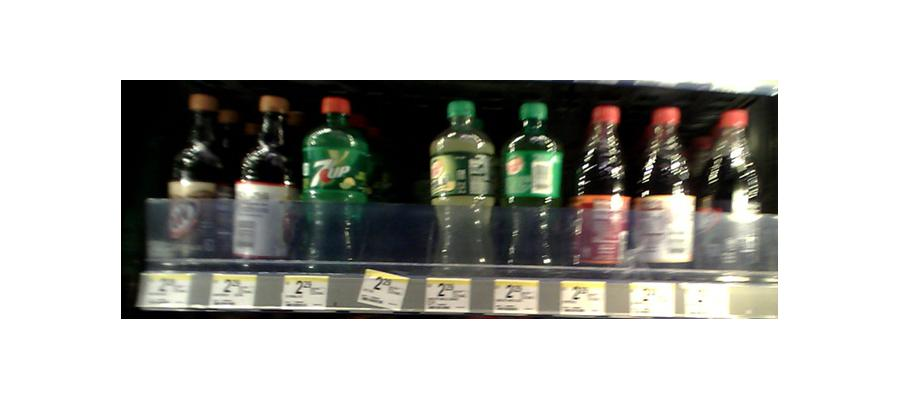bottle: (296, 92, 365, 267), (429, 99, 495, 274), (499, 99, 565, 272), (702, 100, 764, 281), (165, 91, 227, 266), (569, 102, 630, 273), (637, 103, 695, 274), (234, 99, 293, 267)
